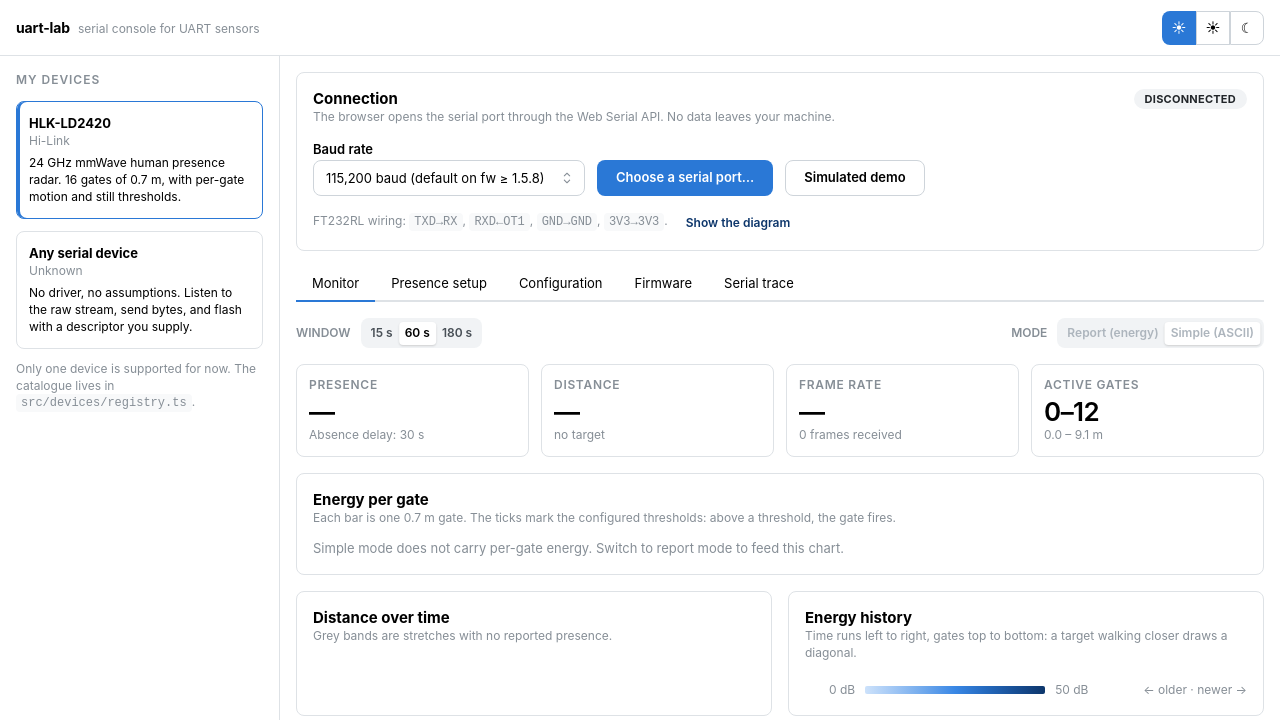
Test: App › shows only the tabs the selected device supports
The width and height of the screenshot is (1280, 720).
Expected: the tab "Monitor" is shown, [296, 267, 375, 302]
Expected: the tab "Generic flash" is not shown
Click the button "Any serial device".
click(140, 290)  # box [16, 231, 263, 349]
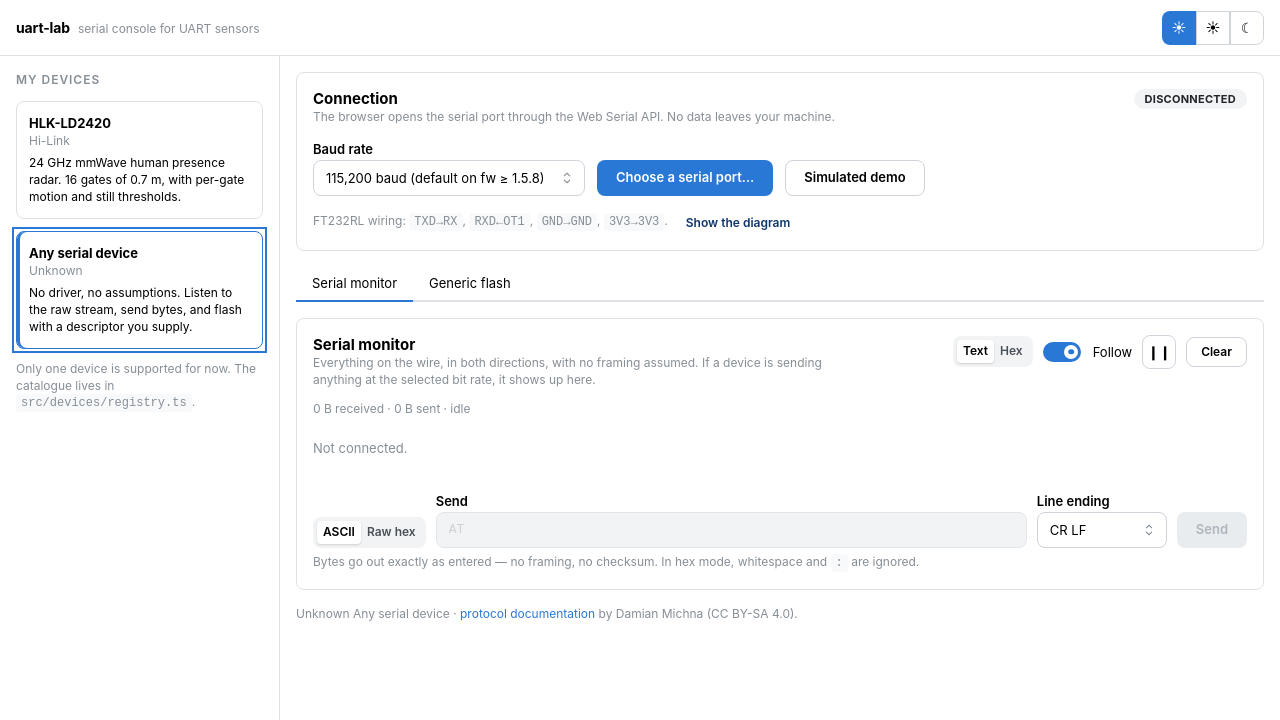
Result: the tab "Serial monitor" is shown at [296, 267, 413, 302]
Result: the tab "Generic flash" is shown at [413, 267, 527, 302]
Result: the tab "Configuration" is gone
